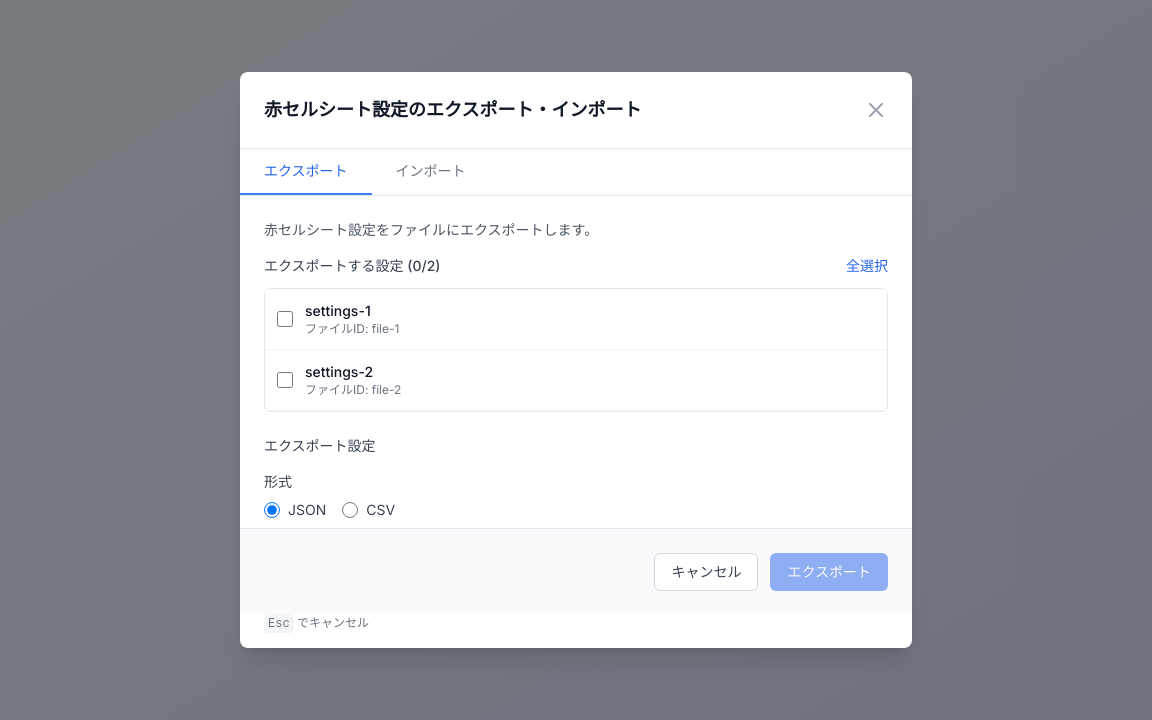
Scenario: RedactionExportDialog › エクスポート機能 › should toggle setting selection
The width and height of the screenshot is (1152, 720).
Click the checkbox with test id "export-checkbox-settings-1".
click(285, 319)  # box [277,311,293,327]
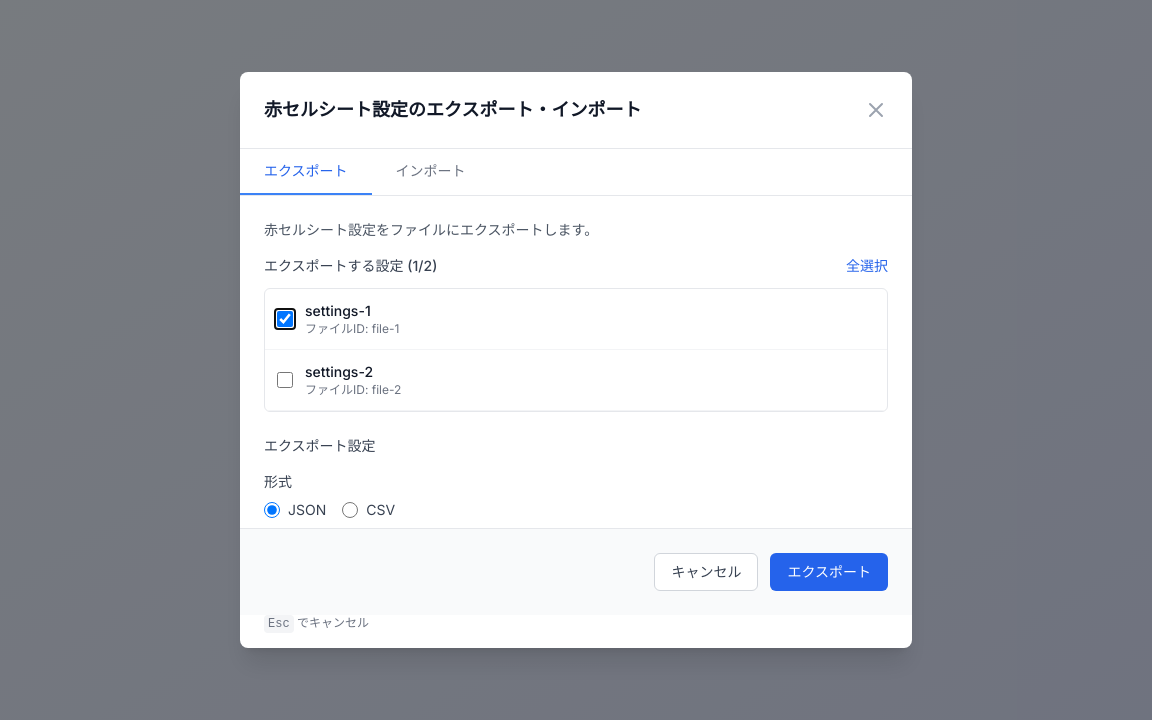
Now the checkbox with test id "export-checkbox-settings-1" is checked, box [277,311,293,327]
Now the heading "エクスポートする設定 (1/2)" is shown, box [264,256,437,276]
